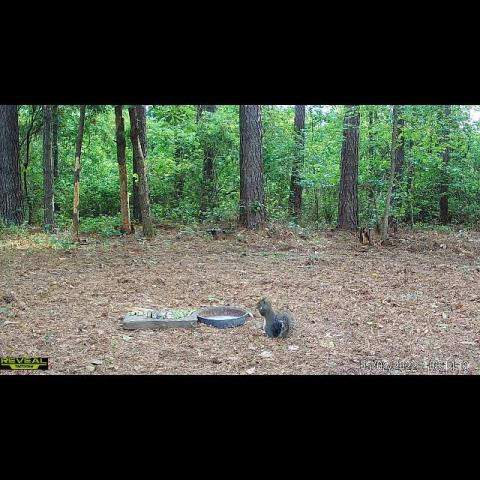small_animal: (253, 294, 293, 341), (439, 241, 449, 252)
